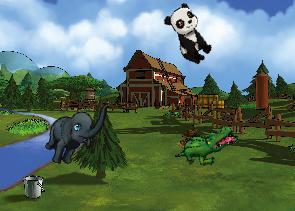crocodile: (173, 112, 240, 179)
elephant: (42, 92, 111, 172)
panda: (160, 1, 218, 68)
